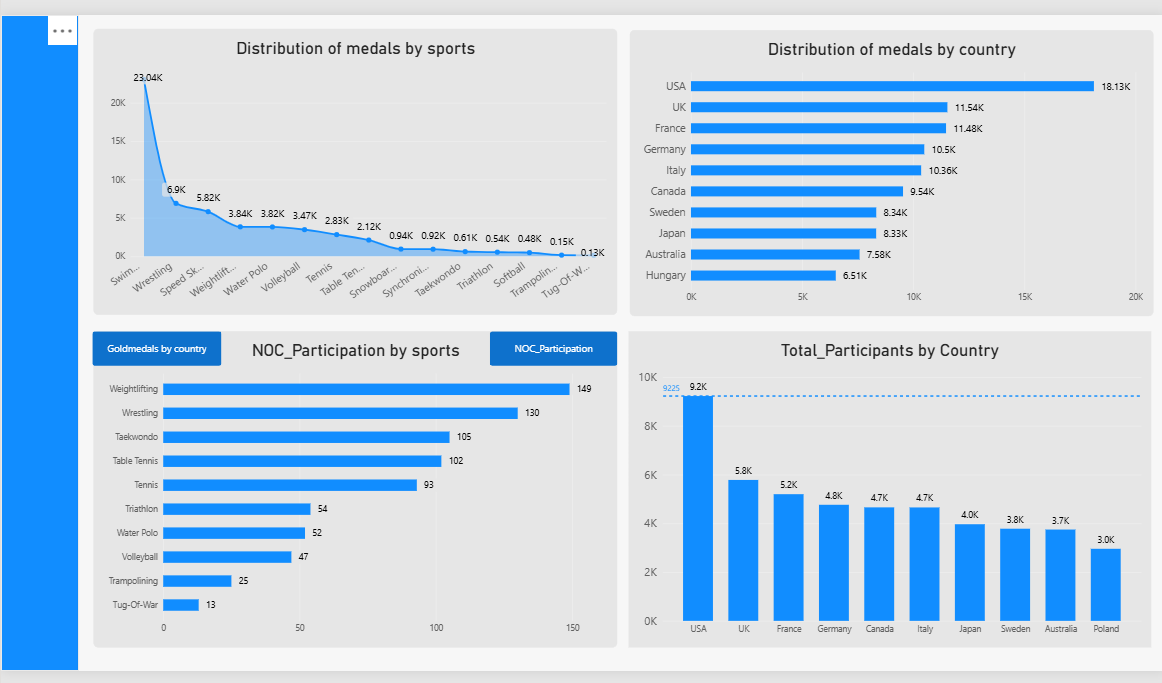

The dashboard page shown, as its layout file describes it:
{"tool":"powerbi","page":{"name":"Page 4","canvas":[1920,1080],"ordinal":3},"visuals":[{"type":"shape","box":[0,0,127.6,1080.6],"z":1000},{"type":"lineChart","title":"Distribution of medals by sports","fields":{"Category":["consolidated_fact.sport_name"],"Y":["CountNonNull(consolidated_fact.medal_name)"]},"box":[152.7,22.3,862.1,471.1],"z":2000},{"type":"clusteredBarChart","title":"NOC_Participation by sports","fields":{"Y":["MTable.NOC_Participation"],"Category":["consolidated_fact.sport_name"]},"box":[152.3,520.8,862.4,520.8],"z":3000},{"type":"actionButton","box":[151.3,520.5,213,57.1],"z":4000},{"type":"actionButton","box":[805.2,520.5,210.4,57.1],"z":5000},{"type":"clusteredColumnChart","title":"Total_Participants by Country","fields":{"Category":["consolidated_fact.region_name"],"Y":["MTable.Total_Participants"]},"box":[1034.3,520.5,860.8,520.5],"z":6000},{"type":"clusteredBarChart","title":"Distribution of medals by country","fields":{"Category":["consolidated_fact.region_name"],"Y":["CountNonNull(consolidated_fact.medal_name)"]},"box":[1035.2,24.2,862.1,471.1],"z":7000}]}

Visuals, with their boxes on the page's 1920x1080 design canvas (x1, y1, x2, y2). These are canvas units, not pixel positions in the 1162x683 screenshot, which may show the page scaled, cropped or inside an application window:
shape: (left=0, top=0, right=128, bottom=1081)
"Distribution of medals by sports" lineChart: (left=153, top=22, right=1015, bottom=493)
"NOC_Participation by sports" clusteredBarChart: (left=152, top=521, right=1015, bottom=1042)
actionButton: (left=151, top=520, right=364, bottom=578)
actionButton: (left=805, top=520, right=1016, bottom=578)
"Total_Participants by Country" clusteredColumnChart: (left=1034, top=520, right=1895, bottom=1041)
"Distribution of medals by country" clusteredBarChart: (left=1035, top=24, right=1897, bottom=495)
